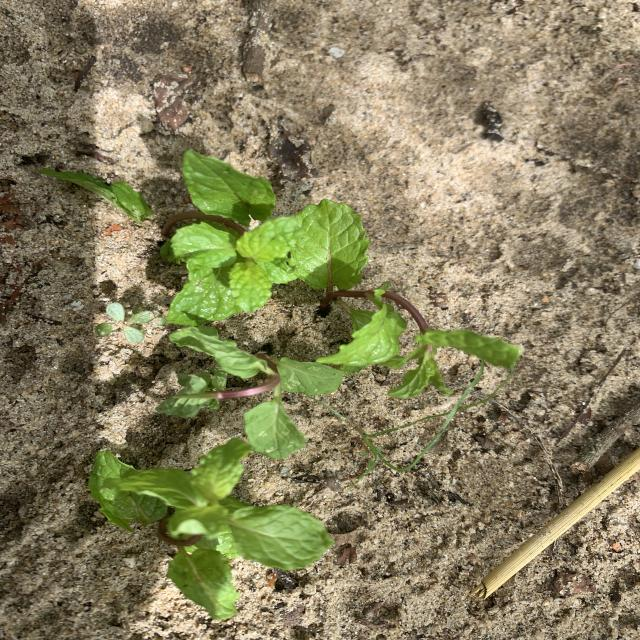crop: (40, 150, 369, 326), (88, 438, 334, 620), (295, 200, 521, 398), (156, 327, 343, 459)
weed: (351, 359, 514, 478), (95, 302, 155, 344)
